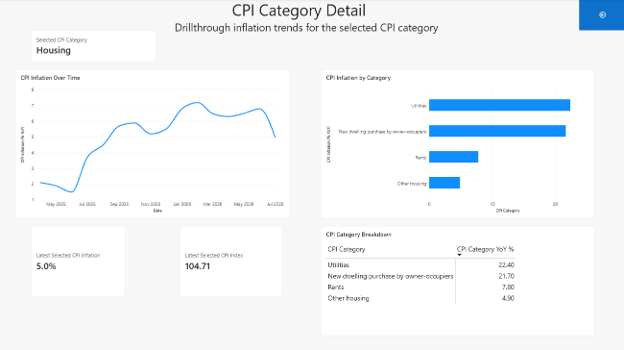

The dashboard page shown, as its layout file describes it:
{"tool":"powerbi","page":{"name":"CPI Category Detail","canvas":[1920,1080],"ordinal":4},"visuals":[{"type":"actionButton","box":[1776,0,144,96],"z":0},{"type":"lineChart","title":"CPI Inflation Over Time","fields":{"Category":["DimDate.Date"],"Y":["CPI.CPI Category YoY %"]},"box":[48,216,840,456],"z":1000},{"type":"clusteredBarChart","title":"CPI Inflation by Category","fields":{"Category":["CPI.CPI Category"],"Y":["CPI.CPI Category YoY %"]},"box":[984,216,840,456],"z":2000},{"type":"textbox","box":[0,0,1728,120],"z":3000},{"type":"cardVisual","fields":{"Data":["CPI.Selected CPI Category"]},"box":[96,96,384,96],"z":4000},{"type":"cardVisual","fields":{"Data":["CPI.Latest Selected CPI YoY %"]},"box":[96,696,288,216],"z":5000},{"type":"cardVisual","fields":{"Data":["CPI.Latest Selected CPI Index"]},"box":[552,696,312,216],"z":6000},{"type":"pivotTable","title":"CPI Category Breakdown","fields":{"Rows":["CPI.CPI Category"],"Values":["select","CPI.CPI Category YoY %"]},"box":[984,696,840,336],"z":7000}]}

Visuals, with their boxes in screenshot pixels (x1, y1, x2, y2), scaled from the page's 1920x1080 canvas onto the 624x350 screenshot:
actionButton: [left=577, top=0, right=623, bottom=31]
"CPI Inflation Over Time" lineChart: [left=16, top=70, right=289, bottom=218]
"CPI Inflation by Category" clusteredBarChart: [left=320, top=70, right=593, bottom=218]
textbox: [left=0, top=0, right=562, bottom=39]
cardVisual - CPI.Selected CPI Category: [left=31, top=31, right=156, bottom=62]
cardVisual - CPI.Latest Selected CPI YoY %: [left=31, top=226, right=125, bottom=296]
cardVisual - CPI.Latest Selected CPI Index: [left=179, top=226, right=281, bottom=296]
"CPI Category Breakdown" pivotTable: [left=320, top=226, right=593, bottom=334]
